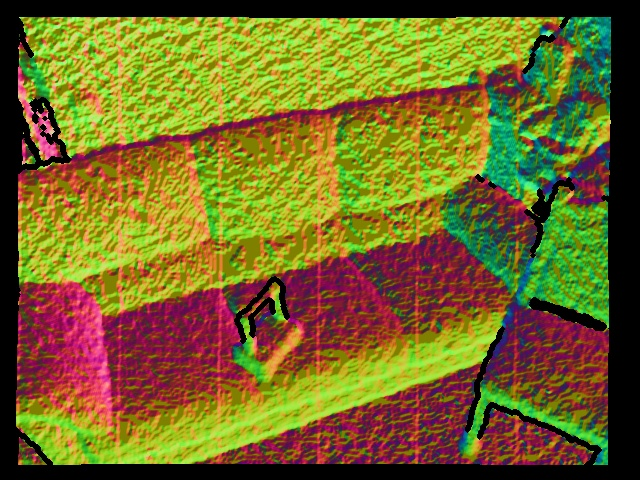station: (231, 277, 311, 379)
